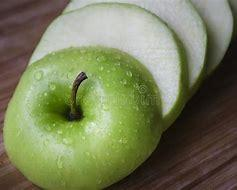apple: (1, 50, 170, 168)
